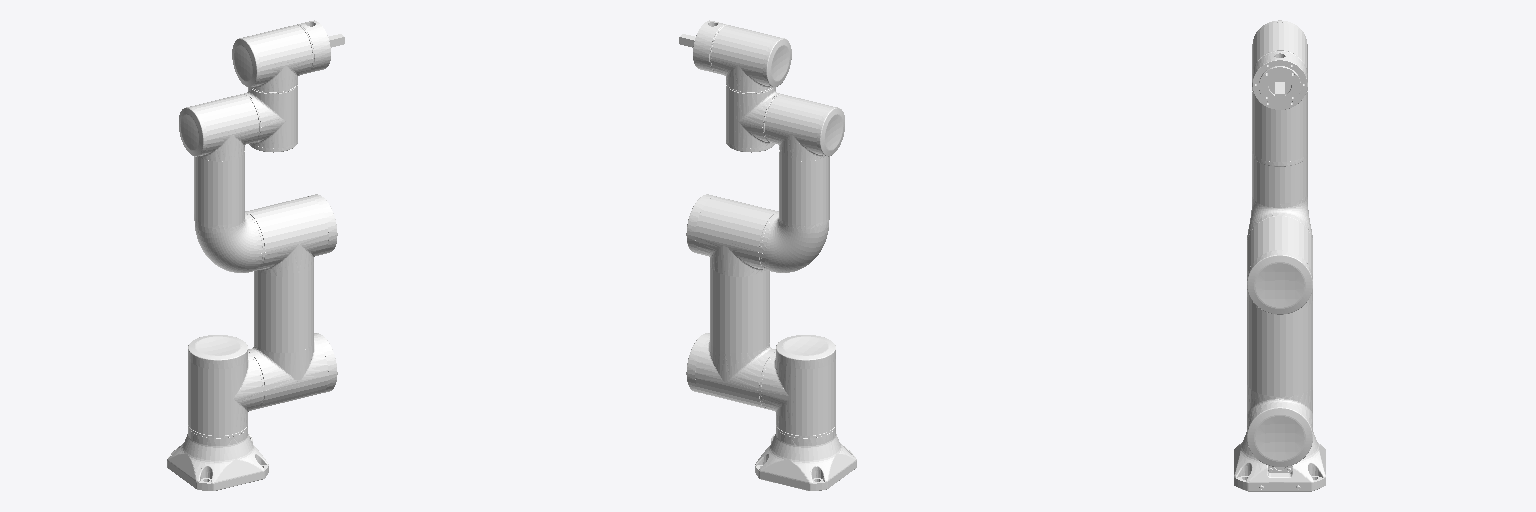
robot.urdf — eu_description:
<?xml version="1.0" encoding="utf-8"?>
<!-- This URDF was automatically created by SolidWorks to URDF Exporter! Originally created by Stephen Brawner (brawner@gmail.com) 
     Commit Version: 1.6.0-4-g7f85cfe  Build Version: 1.6.7995.38578
     For more information, please see http://wiki.ros.org/sw_urdf_exporter -->
<robot
  name="eu_description">
  <link
    name="base_link">
    <inertial>
      <origin
        xyz="0.000569630017392398 3.03803069619026E-08 0.00922182249395262"
        rpy="0 0 0" />
      <mass
        value="0.18082530104154" />
      <inertia
        ixx="0.00022620711794831"
        ixy="-3.9338122016661E-10"
        ixz="-2.17045606668747E-06"
        iyy="0.000225328856837432"
        iyz="2.22144774604557E-10"
        izz="0.000296435262022703" />
    </inertial>
    <visual>
      <origin
        xyz="0 0 0"
        rpy="0 0 0" />
      <geometry>
        <mesh
          filename="package://eu_description/meshes/base_link.STL" />
      </geometry>
      <material
        name="">
        <color
          rgba="1 1 1 1" />
      </material>
    </visual>
    <collision>
      <origin
        xyz="0 0 0"
        rpy="0 0 0" />
      <geometry>
        <mesh
          filename="package://eu_description/meshes/base_link.STL" />
      </geometry>
    </collision>
  </link>
  <link
    name="Empty_Link1">
    <inertial>
      <origin
        xyz="-0.0137250306129721 -7.81643254228359E-08 0.00832917079510267"
        rpy="0 0 0" />
      <mass
        value="0.116461847433707" />
      <inertia
        ixx="0.000170578521014201"
        ixy="-1.3562757825969E-11"
        ixz="-1.27272793150686E-05"
        iyy="0.000194893575433069"
        iyz="-3.76907861533648E-12"
        izz="0.000145446828492521" />
    </inertial>
    <visual>
      <origin
        xyz="0 0 0"
        rpy="0 0 0" />
      <geometry>
        <mesh
          filename="package://eu_description/meshes/Empty_Link1.STL" />
      </geometry>
      <material
        name="">
        <color
          rgba="1 1 1 1" />
      </material>
    </visual>
    <collision>
      <origin
        xyz="0 0 0"
        rpy="0 0 0" />
      <geometry>
        <mesh
          filename="package://eu_description/meshes/Empty_Link1.STL" />
      </geometry>
    </collision>
  </link>
  <joint
    name="j1"
    type="revolute">
    <origin
      xyz="0 0 0.089"
      rpy="0 0 3.1416" />
    <parent
      link="base_link" />
    <child
      link="Empty_Link1" />
    <axis
      xyz="0 0 -1" />
    <limit
      lower="-3.14"
      upper="3.14"
      effort="100"
      velocity="1" />
  </joint>
  <link
    name="Empty_Link2">
    <inertial>
      <origin
        xyz="-5.99061814877216E-12 0.0915000007413379 0.00751019564382356"
        rpy="0 0 0" />
      <mass
        value="0.234709114351985" />
      <inertia
        ixx="0.0017695944089596"
        ixy="-8.97349963315641E-10"
        ixz="-4.90490218242585E-14"
        iyy="0.000376025375309406"
        iyz="1.02670751403727E-12"
        izz="0.00166774796618701" />
    </inertial>
    <visual>
      <origin
        xyz="0 0 0"
        rpy="0 0 0" />
      <geometry>
        <mesh
          filename="package://eu_description/meshes/Empty_Link2.STL" />
      </geometry>
      <material
        name="">
        <color
          rgba="1 1 1 1" />
      </material>
    </visual>
    <collision>
      <origin
        xyz="0 0 0"
        rpy="0 0 0" />
      <geometry>
        <mesh
          filename="package://eu_description/meshes/Empty_Link2.STL" />
      </geometry>
    </collision>
  </link>
  <joint
    name="j2"
    type="revolute">
    <origin
      xyz="-0.091 0 0"
      rpy="1.5708 0 -1.5708" />
    <parent
      link="Empty_Link1" />
    <child
      link="Empty_Link2" />
    <axis
      xyz="0 0 -1" />
    <limit
      lower="-3.14"
      upper="3.14"
      effort="100"
      velocity="1" />
  </joint>
  <link
    name="Empty_Link3">
    <inertial>
      <origin
        xyz="1.82416099223756E-07 0.0711192157304159 -0.0530808547941439"
        rpy="0 0 0" />
      <mass
        value="0.180390544750724" />
      <inertia
        ixx="0.00102331168551838"
        ixy="-9.69887889284E-09"
        ixz="3.40550084028118E-09"
        iyy="0.000197311398334318"
        iyz="0.000155471803522527"
        izz="0.000976068897252984" />
    </inertial>
    <visual>
      <origin
        xyz="0 0 0"
        rpy="0 0 0" />
      <geometry>
        <mesh
          filename="package://eu_description/meshes/Empty_Link3.STL" />
      </geometry>
      <material
        name="">
        <color
          rgba="1 1 1 1" />
      </material>
    </visual>
    <collision>
      <origin
        xyz="0 0 0"
        rpy="0 0 0" />
      <geometry>
        <mesh
          filename="package://eu_description/meshes/Empty_Link3.STL" />
      </geometry>
    </collision>
  </link>
  <joint
    name="j3"
    type="revolute">
    <origin
      xyz="0 0.183 -0.028"
      rpy="0 0 0" />
    <parent
      link="Empty_Link2" />
    <child
      link="Empty_Link3" />
    <axis
      xyz="0 0 -1" />
    <limit
      lower="-3.14"
      upper="3.14"
      effort="100"
      velocity="1" />
  </joint>
  <link
    name="Empty_Link4">
    <inertial>
      <origin
        xyz="3.6242467060177E-08 -0.00470756955606594 0.0107231777971986"
        rpy="0 0 0" />
      <mass
        value="0.0706606867761386" />
      <inertia
        ixx="7.43845569259402E-05"
        ixy="-3.63307477675448E-11"
        ixz="-1.02342148167851E-10"
        iyy="5.91629076702736E-05"
        iyz="-3.58632853565445E-06"
        izz="6.58062483792034E-05" />
    </inertial>
    <visual>
      <origin
        xyz="0 0 0"
        rpy="0 0 0" />
      <geometry>
        <mesh
          filename="package://eu_description/meshes/Empty_Link4.STL" />
      </geometry>
      <material
        name="">
        <color
          rgba="1 1 1 1" />
      </material>
    </visual>
    <collision>
      <origin
        xyz="0 0 0"
        rpy="0 0 0" />
      <geometry>
        <mesh
          filename="package://eu_description/meshes/Empty_Link4.STL" />
      </geometry>
    </collision>
  </link>
  <joint
    name="j4"
    type="revolute">
    <origin
      xyz="0 0.163 0.013"
      rpy="3.1416 0 3.1416" />
    <parent
      link="Empty_Link3" />
    <child
      link="Empty_Link4" />
    <axis
      xyz="0 0 -1" />
    <limit
      lower="-3.14"
      upper="3.14"
      effort="100"
      velocity="1" />
  </joint>
  <link
    name="Empty_Link5">
    <inertial>
      <origin
        xyz="0.00470756955606587 3.62424674036299E-08 -0.0402768222028012"
        rpy="0 0 0" />
      <mass
        value="0.0706606867761387" />
      <inertia
        ixx="5.91629076702735E-05"
        ixy="3.63307483229637E-11"
        ixz="3.58632853565452E-06"
        iyy="7.43845569259399E-05"
        iyz="-1.02342148221937E-10"
        izz="6.58062483792031E-05" />
    </inertial>
    <visual>
      <origin
        xyz="0 0 0"
        rpy="0 0 0" />
      <geometry>
        <mesh
          filename="package://eu_description/meshes/Empty_Link5.STL" />
      </geometry>
      <material
        name="">
        <color
          rgba="1 1 1 1" />
      </material>
    </visual>
    <collision>
      <origin
        xyz="0 0 0"
        rpy="0 0 0" />
      <geometry>
        <mesh
          filename="package://eu_description/meshes/Empty_Link5.STL" />
      </geometry>
    </collision>
  </link>
  <joint
    name="j5"
    type="revolute">
    <origin
      xyz="0 0.023 0"
      rpy="1.5708 -1.5708 0" />
    <parent
      link="Empty_Link4" />
    <child
      link="Empty_Link5" />
    <axis
      xyz="0 0 -1" />
    <limit
      lower="-3.14"
      upper="3.14"
      effort="100"
      velocity="1" />
  </joint>
  <link
    name="Empty_Link6">
    <inertial>
      <origin
        xyz="-0.000708333614737322 -1.62329043516118E-08 -0.0168770380672265"
        rpy="0 0 0" />
      <mass
        value="0.0414634544904291" />
      <inertia
        ixx="1.60344596736767E-05"
        ixy="1.31407807798367E-11"
        ixz="-5.05459093043561E-07"
        iyy="1.64082762518063E-05"
        iyz="-2.03895576313282E-12"
        izz="2.20117636372205E-05" />
    </inertial>
    <visual>
      <origin
        xyz="0 0 0"
        rpy="0 0 0" />
      <geometry>
        <mesh
          filename="package://eu_description/meshes/Empty_Link6.STL" />
      </geometry>
      <material
        name="">
        <color
          rgba="1 1 1 1" />
      </material>
    </visual>
    <collision>
      <origin
        xyz="0 0 0"
        rpy="0 0 0" />
      <geometry>
        <mesh
          filename="package://eu_description/meshes/Empty_Link6.STL" />
      </geometry>
    </collision>
  </link>
  <joint
    name="j6"
    type="revolute">
    <origin
      xyz="-0.066 0 -0.051"
      rpy="3.1416 1.5708 0" />
    <parent
      link="Empty_Link5" />
    <child
      link="Empty_Link6" />
    <axis
      xyz="0 0 1" />
    <limit
      lower="-3.14"
      upper="3.14"
      effort="100"
      velocity="1" />
  </joint>
<link name="Empty_Link">
    <inertial>
      <origin xyz="0.00196729200405212 0.00196729220309844 -0.0528856296590023" rpy="0 0 0"/>
      <mass value="0.0146085832604218"/>
      <inertia iyy="6.0714322209807E-06" ixy="5.65381287186438E-08" iyz="-3.70324687479281E-07" ixz="-3.70324504265208E-07" izz="3.72790473522765E-06" ixx="6.07143364701314E-06"/>
    </inertial>
    <visual>
      <origin xyz="0 0 -0.015" rpy="0 0 0"/>
      <geometry>
        <box size="0.01 0.01 0.03"/>
      </geometry>
      <material name="">
        <color rgba="1 1 1 1"/>
      </material>
    </visual>
    <collision>
      <origin xyz="0 0 -0.052" rpy="0 0 0"/>
      <geometry>
        <mesh filename="package://eu_description/meshes/Empty_Link.STL"/>
      </geometry>
    </collision>
  </link>
  <joint type="fixed" name="j7">
    <origin xyz="0 0 0.03" rpy="0 0 -1.5708"/>
    <parent link="Empty_Link6"/>
    <child link="Empty_Link"/>
    <axis xyz="0 0 0"/>
  </joint>
</robot>

--- What the picture shows (computed from the rendered views, not written in the file) ---
The picture shows the robot from 3 angles, left to right: view 1: azimuth 30°, elevation 25°; view 2: azimuth 150°, elevation 25°; view 3: azimuth 270°, elevation 25°; orthographic projection.
Model eu_description with 8 links and 7 joints (6 revolute, 1 fixed), rooted at base_link, posed all joints at 0.
Links seen in each view (by area): view 1: Empty_Link2, Empty_Link3, Empty_Link1, base_link, Empty_Link5, Empty_Link4, Empty_Link6; view 2: Empty_Link2, Empty_Link3, Empty_Link1, base_link, Empty_Link5, Empty_Link4, Empty_Link6; view 3: Empty_Link2, Empty_Link4, Empty_Link3, base_link, Empty_Link6, Empty_Link5.
Boxes of the visible links, x1,y1,x2,y2 form: Empty_Link2: (245,194,337,408); Empty_Link3: (179,94,264,272); Empty_Link1: (188,335,264,435); base_link: (167,425,268,490); Empty_Link5: (232,25,312,93); Empty_Link4: (244,85,297,152); Empty_Link6: (297,20,330,72); Empty_Link2: (686,194,778,408); Empty_Link3: (759,94,844,272); Empty_Link1: (759,335,835,435); base_link: (755,425,856,490); Empty_Link5: (711,25,791,93); Empty_Link4: (726,85,779,152); Empty_Link6: (693,20,726,72); Empty_Link2: (1247,216,1312,466); Empty_Link4: (1252,91,1307,166); Empty_Link3: (1247,155,1312,240); base_link: (1234,432,1325,491); Empty_Link6: (1252,51,1307,109); Empty_Link5: (1252,20,1307,93).
Bounding box of the posed robot: 0.222 × 0.1 × 0.559 m (x, y, z).
Meshes: 7 distinct files referenced, 7 mesh visuals loaded (7 binary STL).
